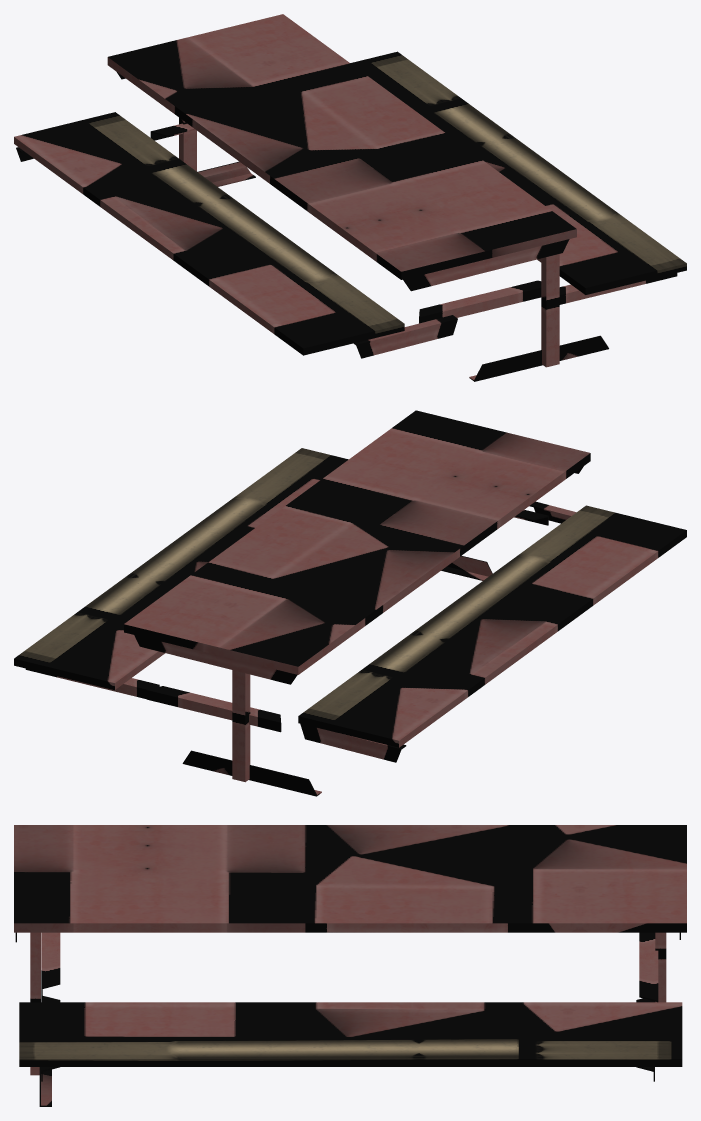
Rendered from Ramp06.fbx.
The picture shows the model from 3 angles, top to bottom: view 1: azimuth 30°, elevation 25°; view 2: azimuth 150°, elevation 25°; view 3: azimuth 270°, elevation 25°; orthographic projection. The views are drawn at different scales.
Visible parts, largest first — view 1: Ramp06; view 2: Ramp06; view 3: Ramp06.
Part boxes in pixels (bbox=[...]): Ramp06: bbox=[14, 14, 686, 381]; Ramp06: bbox=[14, 410, 686, 796]; Ramp06: bbox=[14, 825, 686, 1106].
Bounding box in the file's own units: 11.45 × 3.94 × 15.1.
